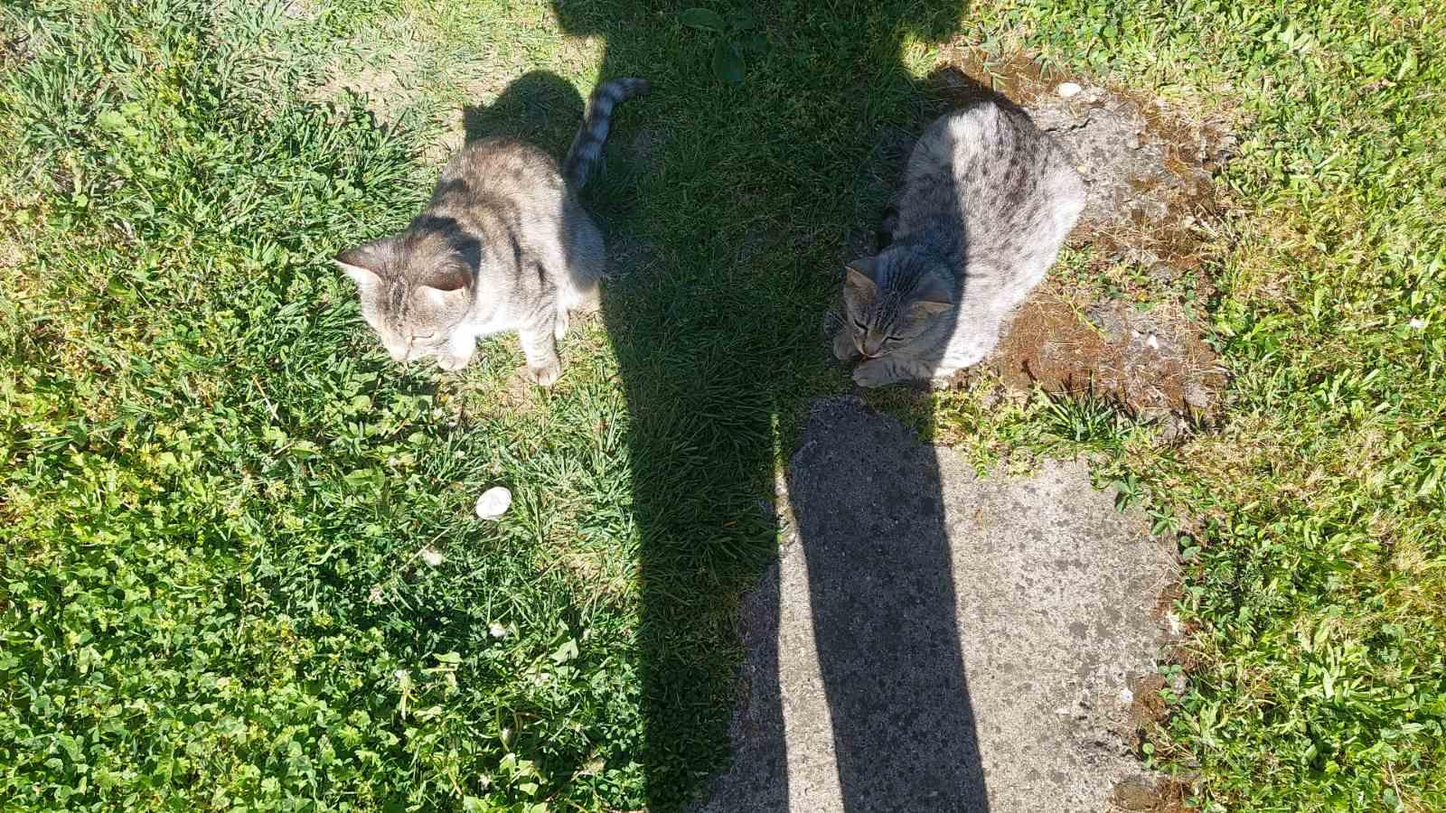macka: (338, 78, 649, 390), (832, 101, 1086, 387)
